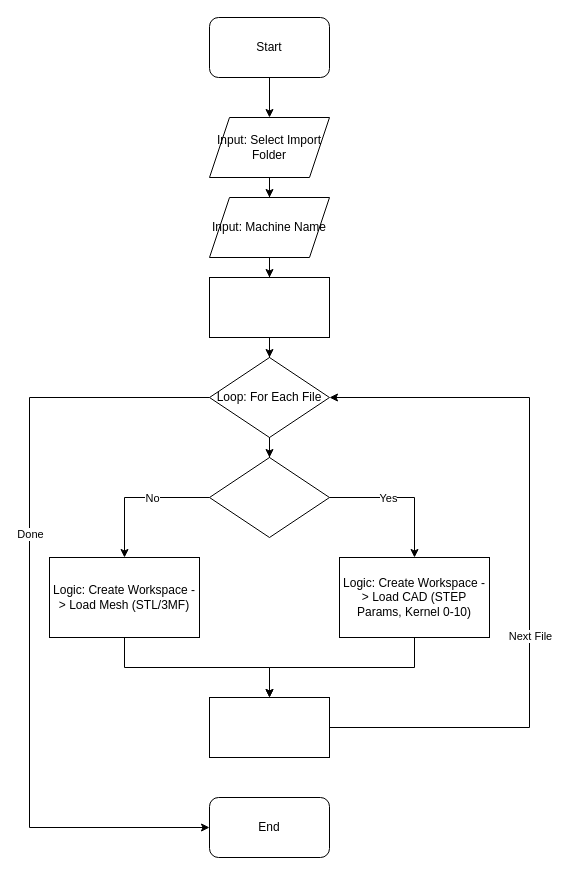
Image size: 569x875. Some labels were removed from this diagram. Each missing label, with the centre of its shape:
"Is CAD?" goes at (x=269, y=497).
"Logic: Center Mesh in Workspace" goes at (x=269, y=727).
"Logic: Get Workspace ID" goes at (x=269, y=307).
